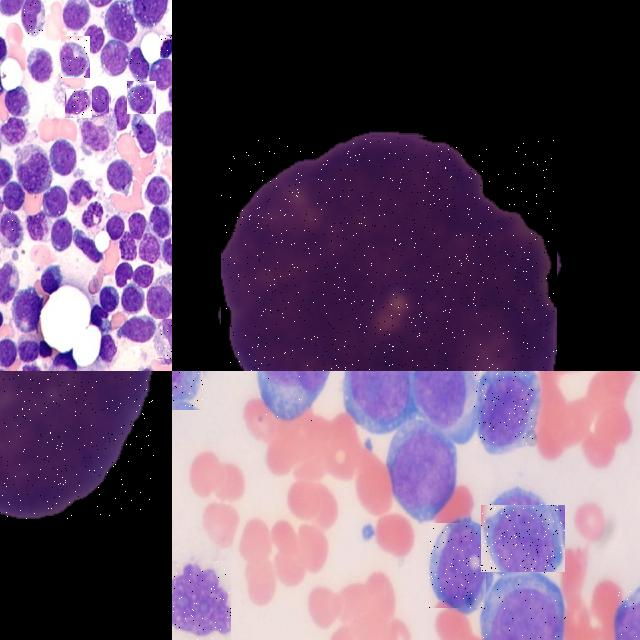ALL Negative Cells: (0, 371, 154, 521), (0, 210, 21, 247), (23, 0, 44, 35), (156, 319, 172, 358)
ALL Positive Cell: (221, 138, 557, 371), (482, 571, 565, 640), (482, 504, 566, 572), (429, 523, 486, 608), (172, 559, 230, 639), (473, 371, 533, 443), (256, 371, 323, 423), (610, 588, 640, 640), (61, 36, 90, 78), (127, 80, 156, 114), (65, 89, 92, 118), (90, 83, 110, 120), (127, 53, 152, 78), (160, 35, 172, 58), (0, 138, 6, 161)
